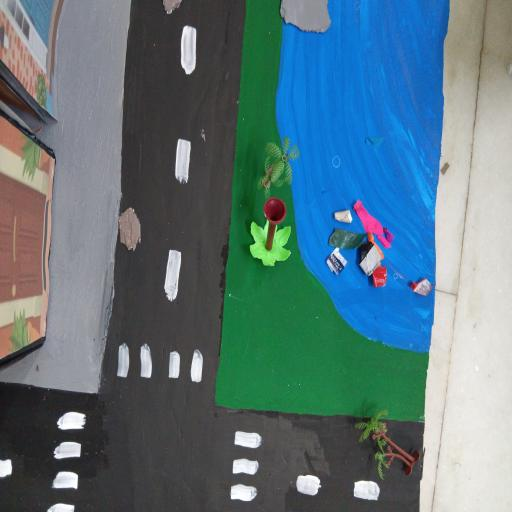encroachment: (280, 0, 334, 36)
fallen trees: (356, 409, 426, 481), (248, 195, 294, 268)
porthole: (115, 209, 144, 253), (159, 0, 187, 16)
trash: (326, 199, 435, 300)
